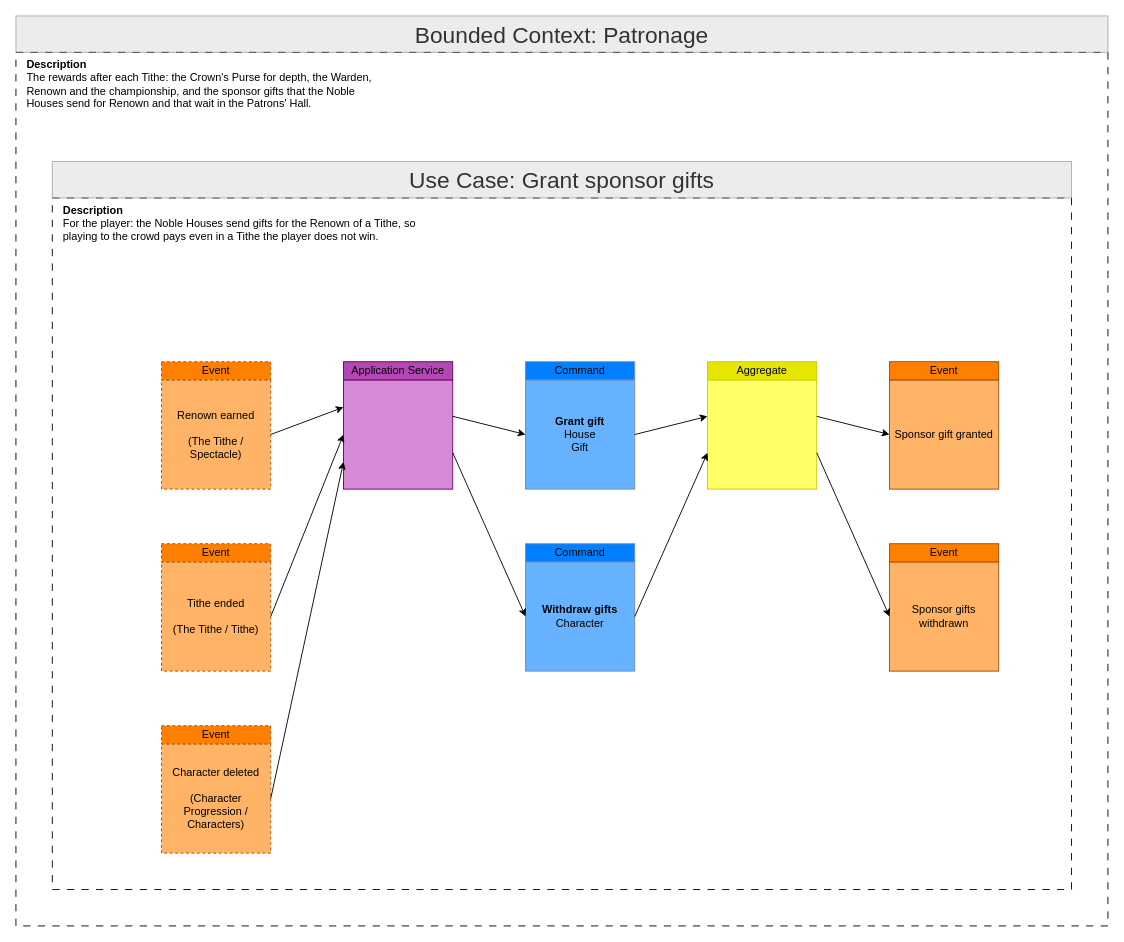
The diagram is 1124 pixels wide and 942 high, and some of its shapes have lost their labels. Each missing label, with the centre of its shape:
"Noble Houses" goes at (398,434).
"Sponsor gift House Kind Item Gold Accepted" goes at (762,434).
